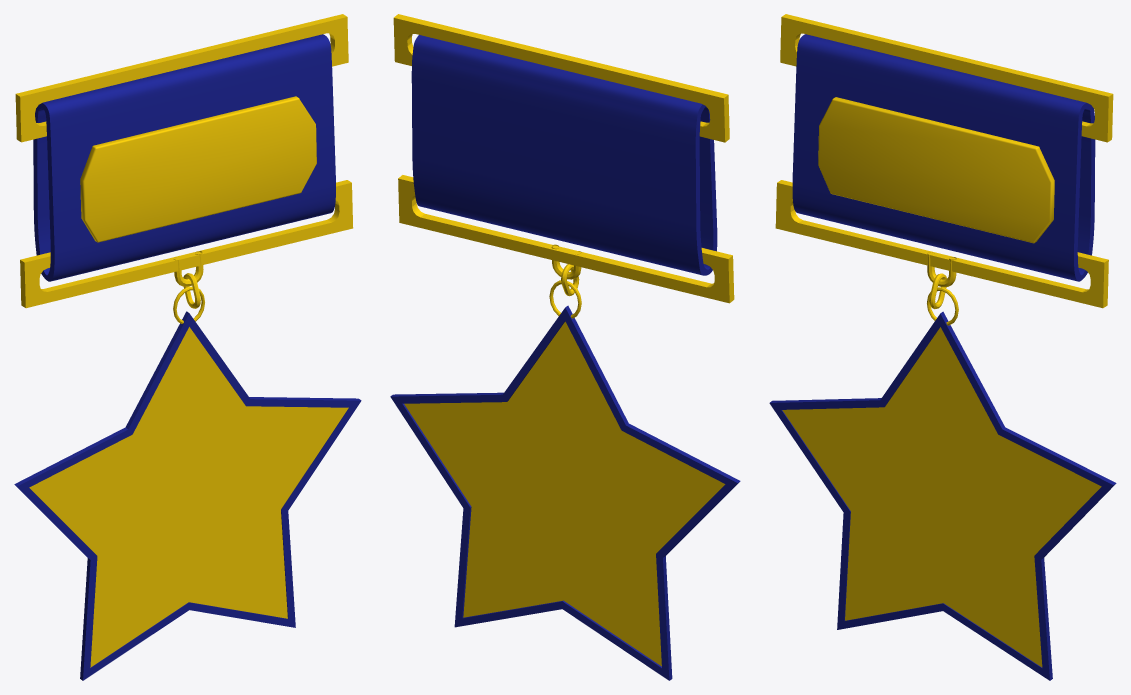
Rendered from Medal_spinning.FBX.
3 views of the same model, side by side, from view 1: azimuth 30°, elevation 25°; view 2: azimuth 150°, elevation 25°; view 3: azimuth 330°, elevation 25° (orthographic).
Visible parts, largest first — view 1: Star004, Line001, ChamferBox002, Star003, Rectangle010, Rectangle009; view 2: Line001, Star004, Star003, Rectangle010, Rectangle009; view 3: Star004, Line001, ChamferBox002, Star003, Rectangle010, Rectangle009.
Part boxes in pixels (left/top/right/bottom): Star004: left=29, top=327, right=348, bottom=667; Line001: left=33, top=34, right=335, bottom=281; ChamferBox002: left=80, top=96, right=316, bottom=242; Star003: left=14, top=311, right=361, bottom=680; Rectangle010: left=15, top=14, right=348, bottom=142; Rectangle009: left=20, top=180, right=353, bottom=308; Line001: left=411, top=35, right=717, bottom=275; Star004: left=404, top=321, right=725, bottom=666; Star003: left=390, top=305, right=740, bottom=680; Rectangle010: left=393, top=14, right=729, bottom=142; Rectangle009: left=398, top=175, right=734, bottom=303; Star004: left=782, top=327, right=1101, bottom=667; Line001: left=792, top=34, right=1095, bottom=281; ChamferBox002: left=818, top=97, right=1054, bottom=243; Star003: left=769, top=311, right=1116, bottom=680; Rectangle010: left=780, top=14, right=1113, bottom=142; Rectangle009: left=775, top=180, right=1108, bottom=308.
Bounding box in the file's own units: 38.41 × 63.51 × 4.77.
Materials: 2 (2 with a texture image).
